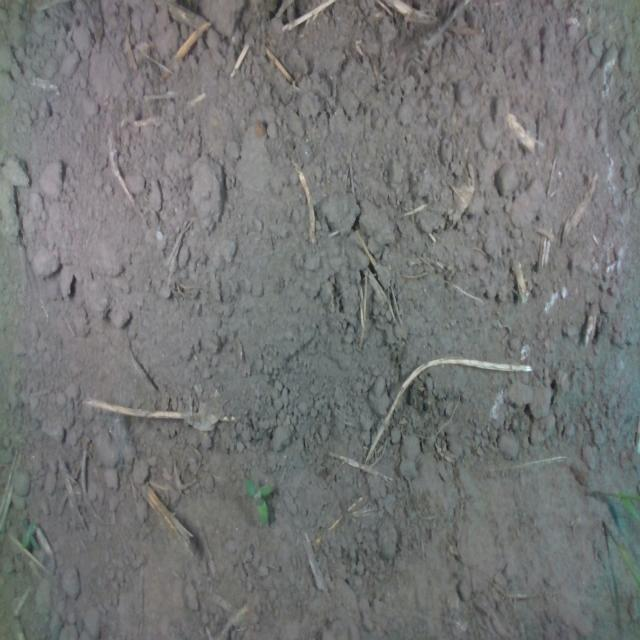weed: (242, 475, 276, 526)
